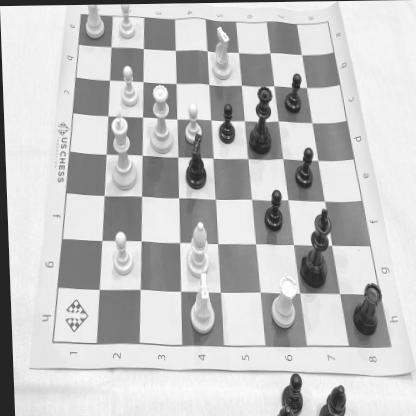black-king: (296, 207, 334, 290)
black-knight: (180, 132, 209, 190)
black-pawn: (290, 144, 315, 192), (282, 71, 304, 117), (262, 186, 283, 232), (216, 101, 236, 144)
black-queen: (246, 84, 275, 157)
black-rook: (348, 280, 382, 338)
white-bishop: (183, 219, 208, 278)
white-king: (107, 107, 138, 192)
white-knight: (186, 272, 216, 336), (209, 24, 234, 81)
white-pawn: (107, 228, 134, 275), (118, 63, 140, 108), (182, 101, 203, 144), (115, 3, 138, 40)
white-queen: (148, 80, 174, 155)
white-rook: (266, 272, 296, 330), (84, 4, 106, 42)
